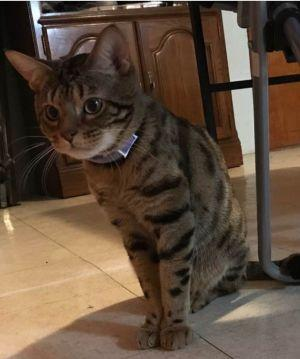bengal: (1, 21, 145, 164)
